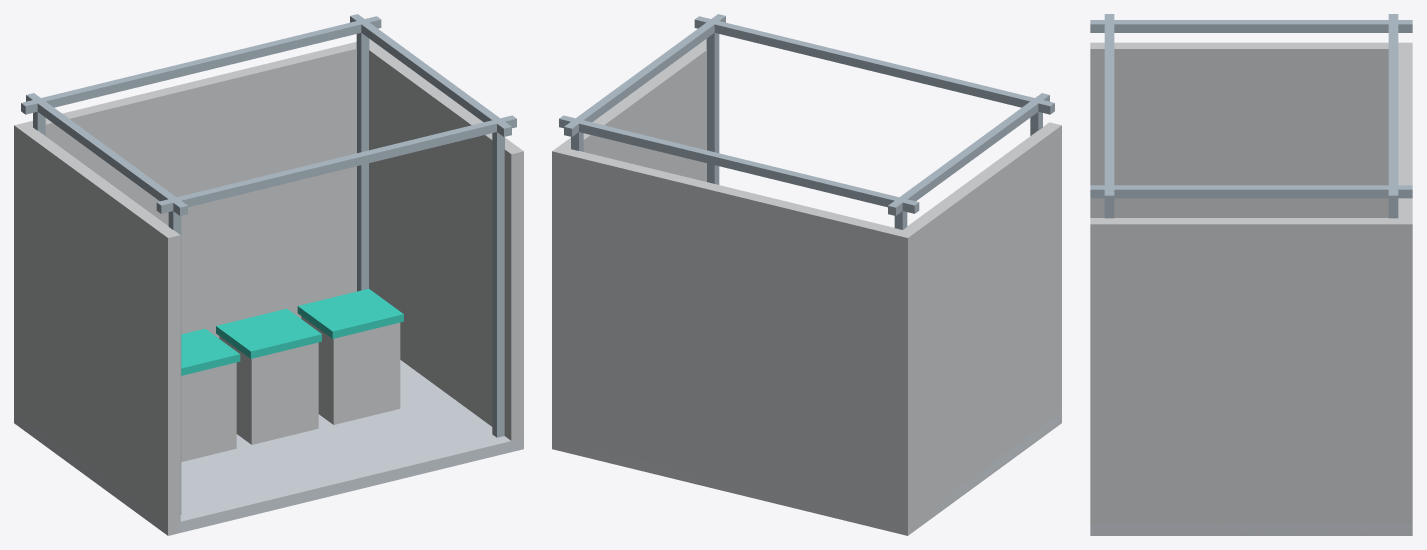
The picture shows the model from 3 angles, left to right: view 1: azimuth 30°, elevation 25°; view 2: azimuth 150°, elevation 25°; view 3: azimuth 270°, elevation 25°; orthographic projection. The views are drawn at different scales.
Parts seen in each view (by area): view 1: Exhibition Booth Concept; view 2: Exhibition Booth Concept; view 3: Exhibition Booth Concept.
Part boxes in pixels (x1,y1,x2,y2): Exhibition Booth Concept: (14,14,523,535); Exhibition Booth Concept: (552,14,1061,535); Exhibition Booth Concept: (1090,14,1412,535).
Size of the model in its own units: 4 by 3.49 by 3.
